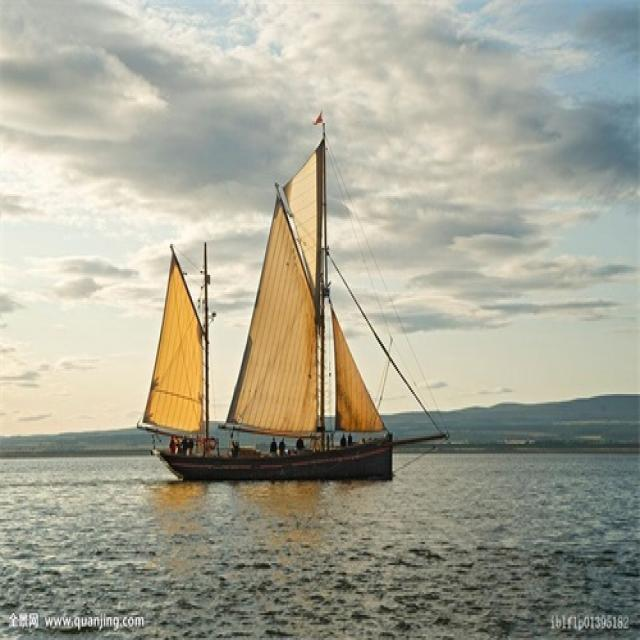Ship: (145, 126, 433, 496)
